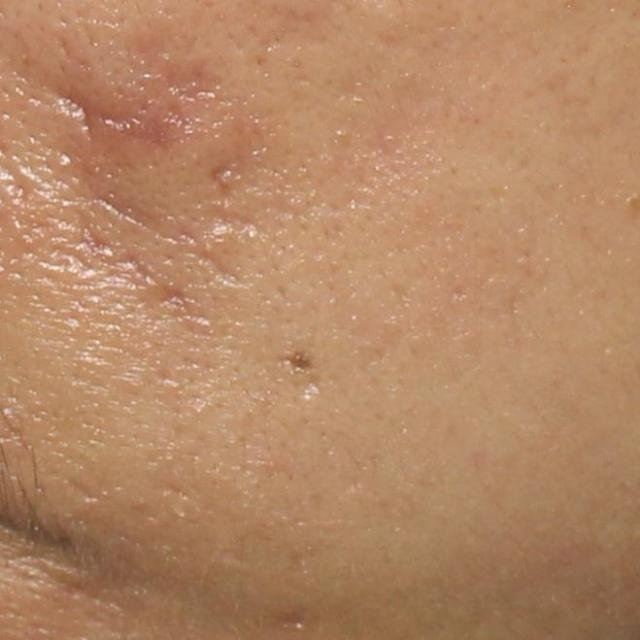blackhead: (287, 354, 310, 368)
